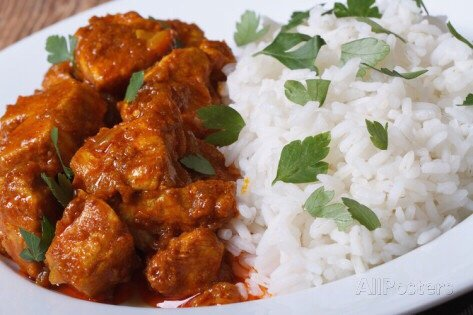sandwich: (3, 3, 471, 307)
